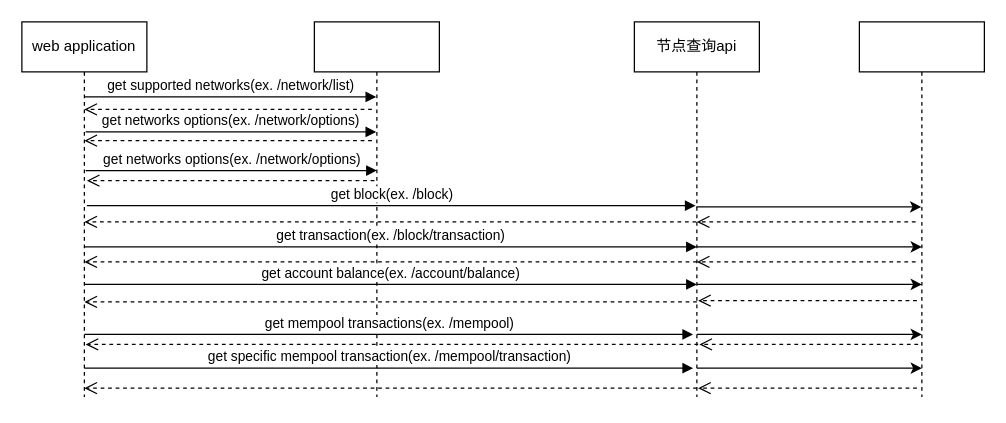
This 1006x423 diagram has some shape labels left out. The shapes that lost their labels are listed below. From the top down, each one's centre as x and y in pixels, then its label:
the point at 376,209: 配置api
the point at 921,209: 区块链节点
